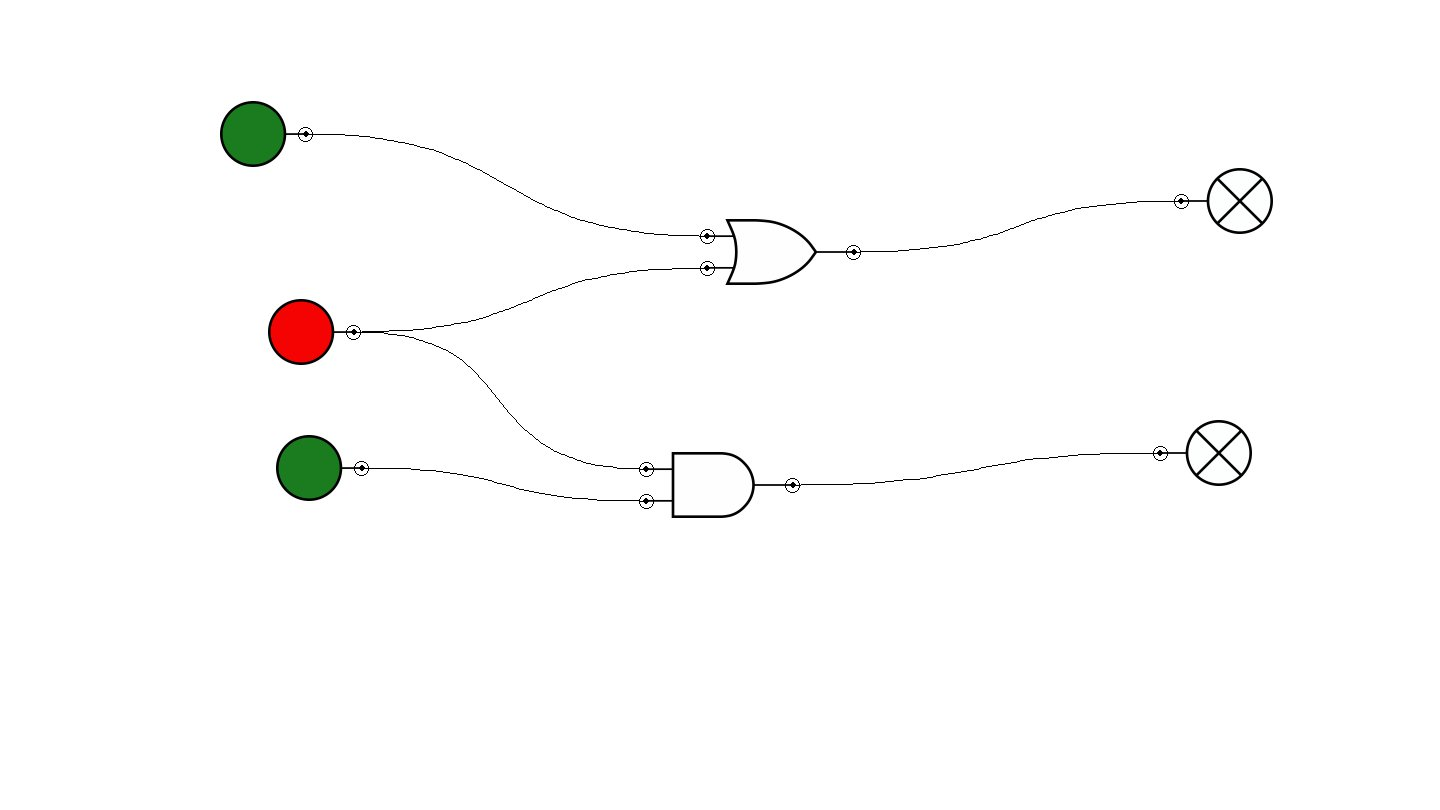and: (639, 452, 800, 518)
bulb: (1153, 420, 1252, 486), (1174, 168, 1273, 234)
or: (700, 219, 861, 285)
switch_False: (268, 299, 361, 365)
switch_True: (220, 101, 313, 167), (276, 435, 369, 501)
